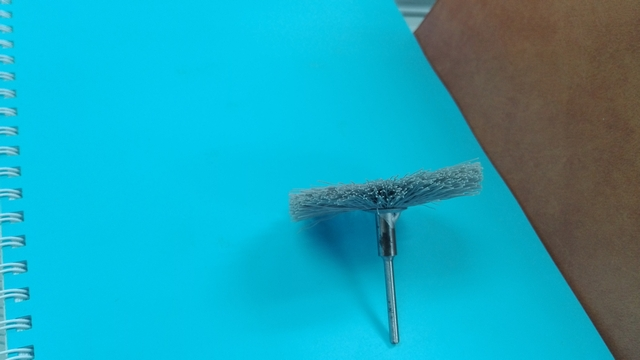TOOL: (253, 114, 503, 303), (261, 139, 498, 337), (268, 164, 480, 304)
